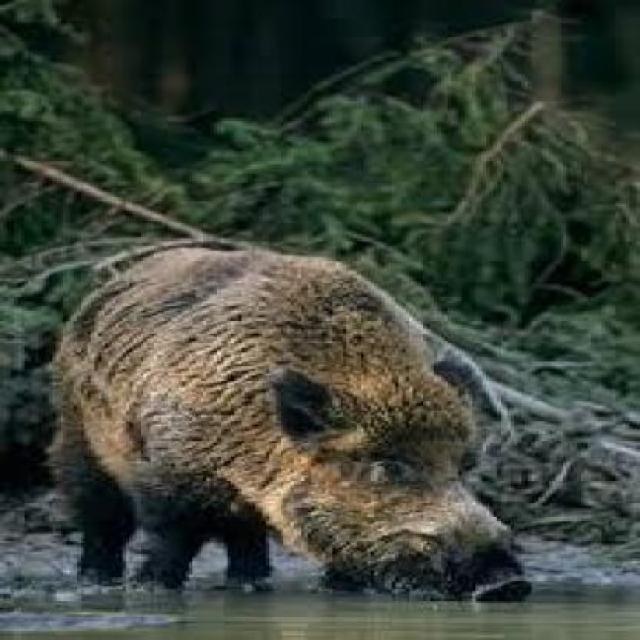wildboar: (43, 227, 542, 616)
